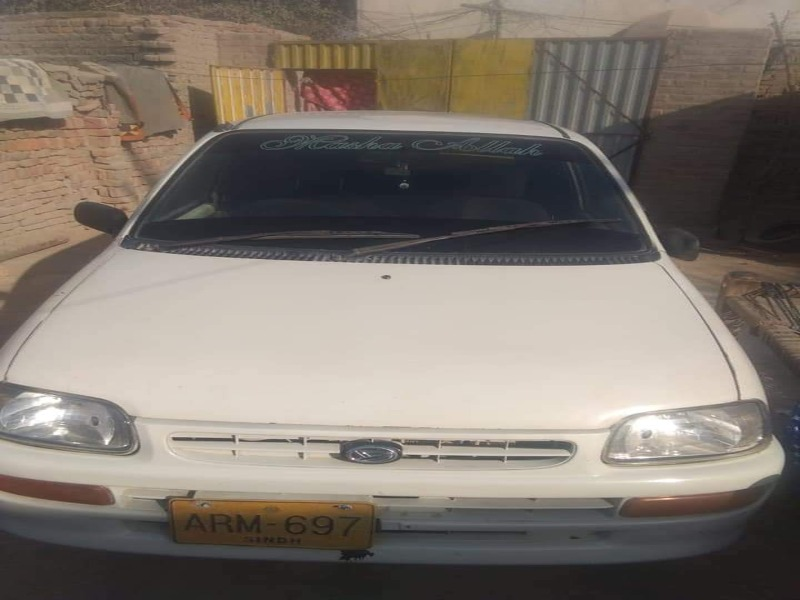License Plate: (165, 492, 379, 555)
